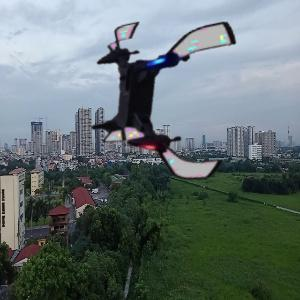drone: (80, 15, 256, 191)
